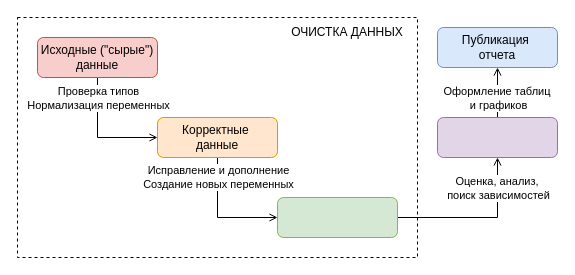
Some shapes in this 575 by 275 pixel diagram are drawn without their labels. The shapes that lost their labels are listed below. From the top down, each one's centre as x and y in pixels, then its label:
point (497, 137): Статистические результаты
point (337, 217): Консистентные ("чистые") данные
